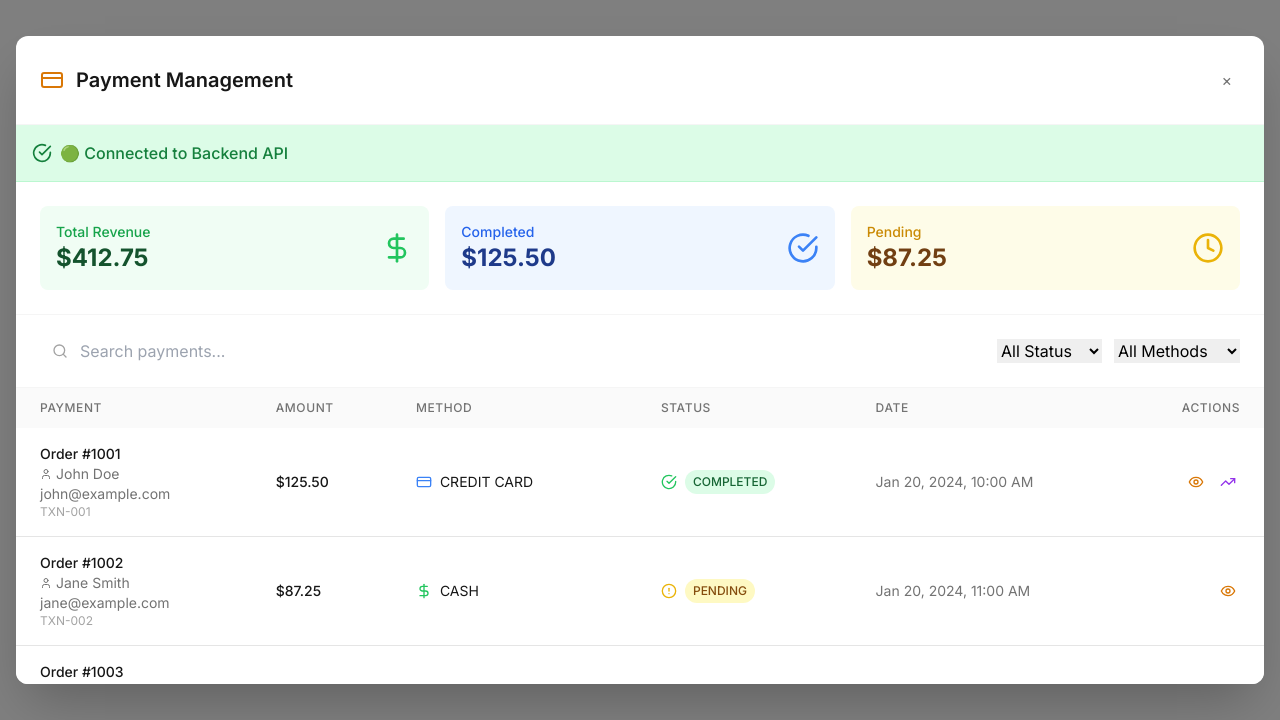
Test case: PaymentManagementPanel (F106) › Filtering › should filter payments by search term
Step 1. Type "john" into the field with placeholder "Search payments..." → {"x": 177, "y": 351}, box [40,339,314,363]
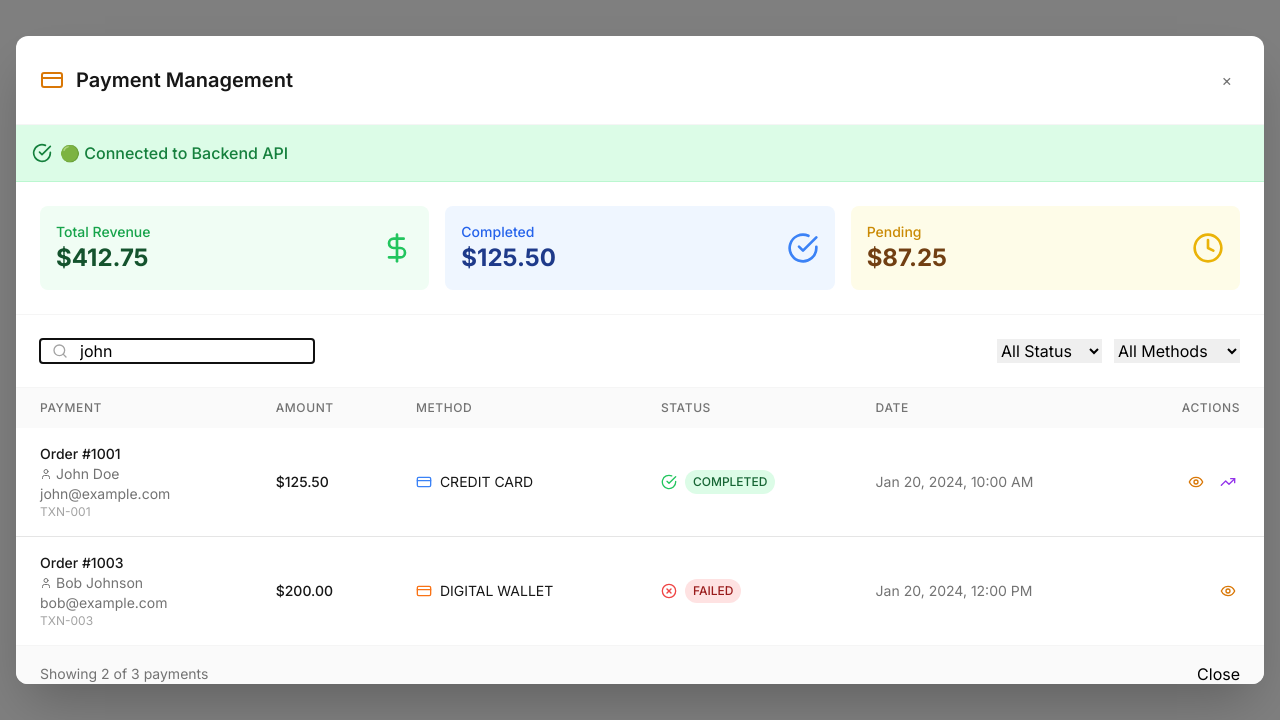
Expected: the text "john@example.com" is shown, [40,485,170,502]
Now the text "jane@example.com" is gone
